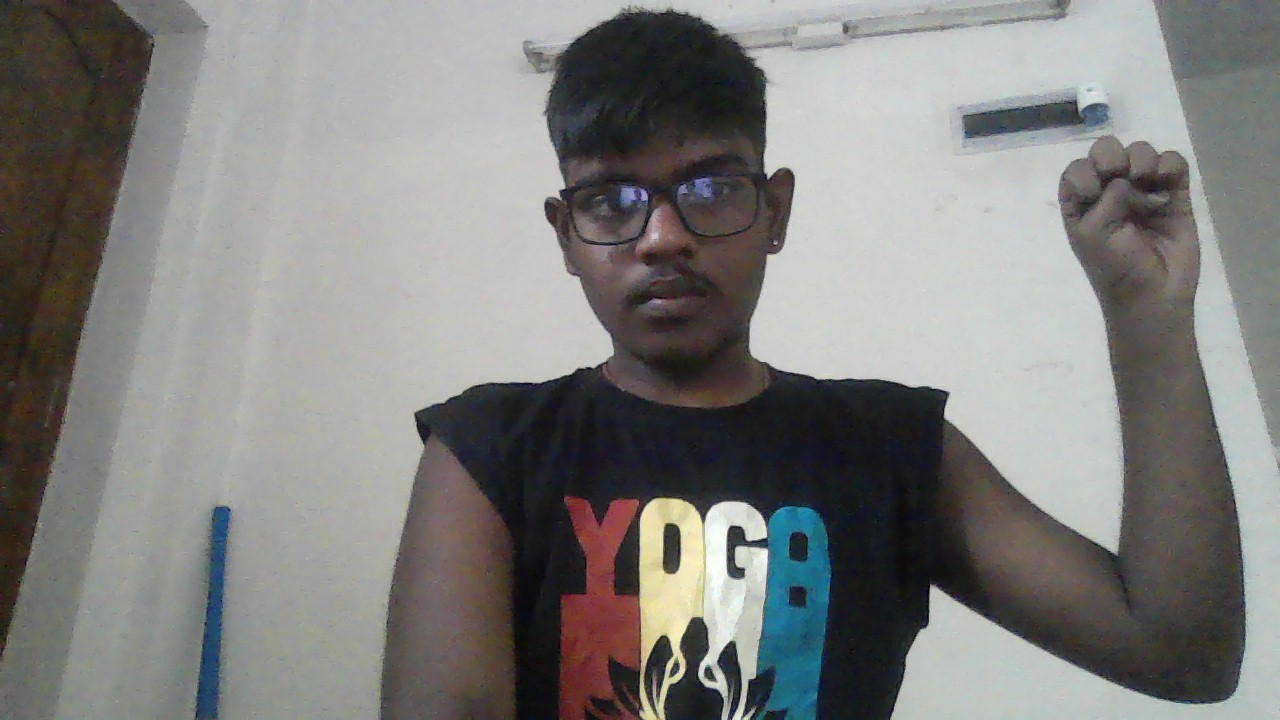E: (1058, 136, 1207, 331)
